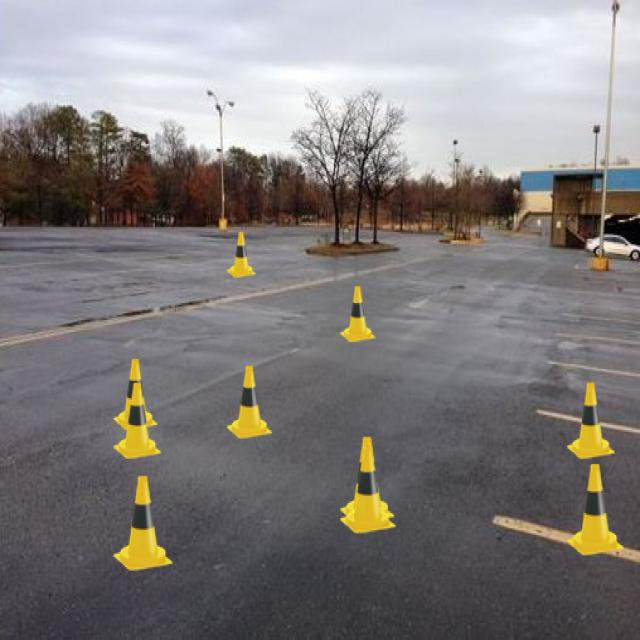yellow_cone: (114, 476, 172, 570), (567, 464, 624, 555), (340, 446, 396, 534), (340, 437, 394, 523), (567, 382, 615, 458), (114, 382, 162, 458), (227, 366, 272, 438), (114, 359, 158, 430), (340, 286, 376, 342), (227, 232, 256, 278)
